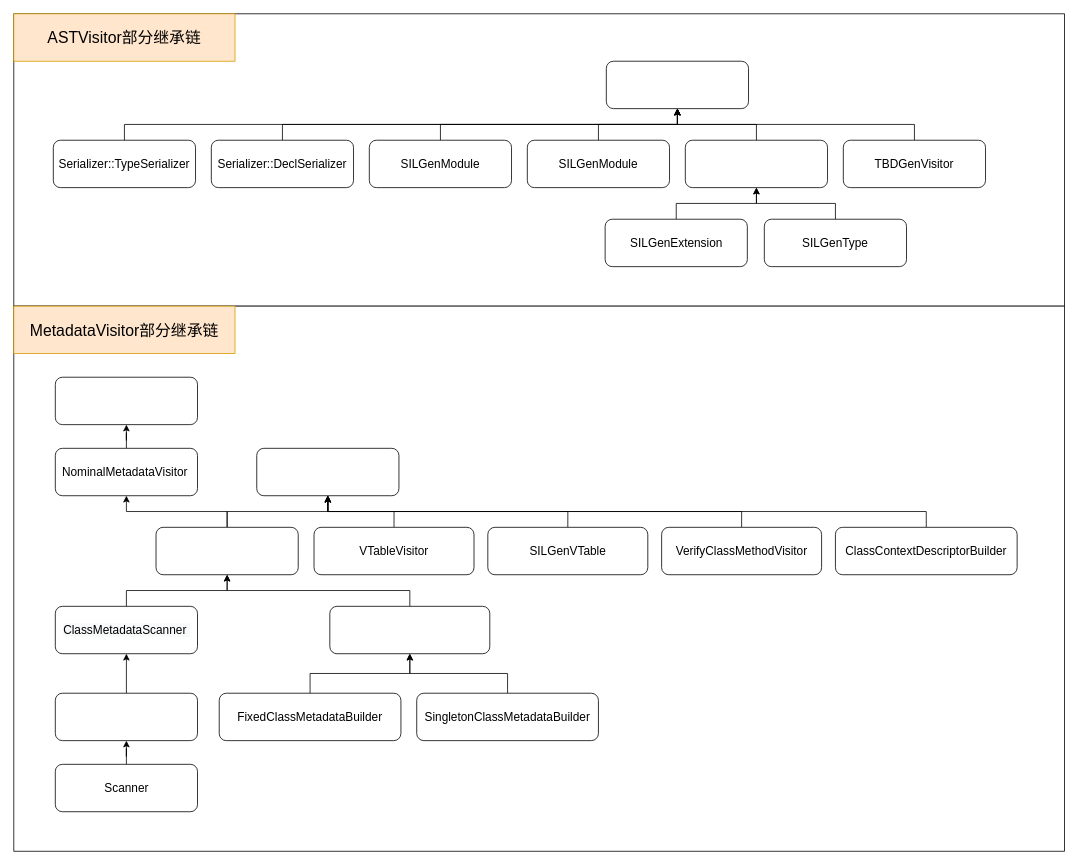
This 1078x865 diagram has some shape labels left out. The centre of each missing label's shape, as x and y in pixels:
"ASTVisitor" belongs at point 677,84.
"ClassMetadataBuilderBase" belongs at point 409,630.
"ClassMetadataVisitor" belongs at point 226,551.
"LayoutScanner" belongs at point 126,716.
"MetadataVisitor" belongs at point 126,400.
"SILVTableVisitor" belongs at point 327,472.
"TypeMemberVisitor" belongs at point 756,163.
